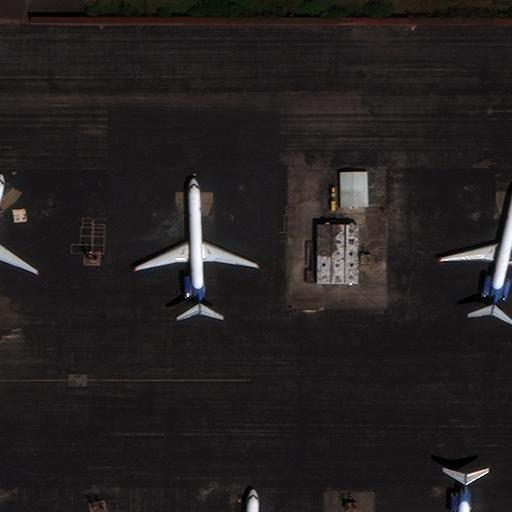Medium Civil Transport: (133, 178, 257, 317), (438, 188, 512, 317), (0, 174, 39, 292), (416, 471, 512, 511)
